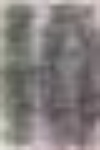YU_RUS: (0, 0, 99, 149)
